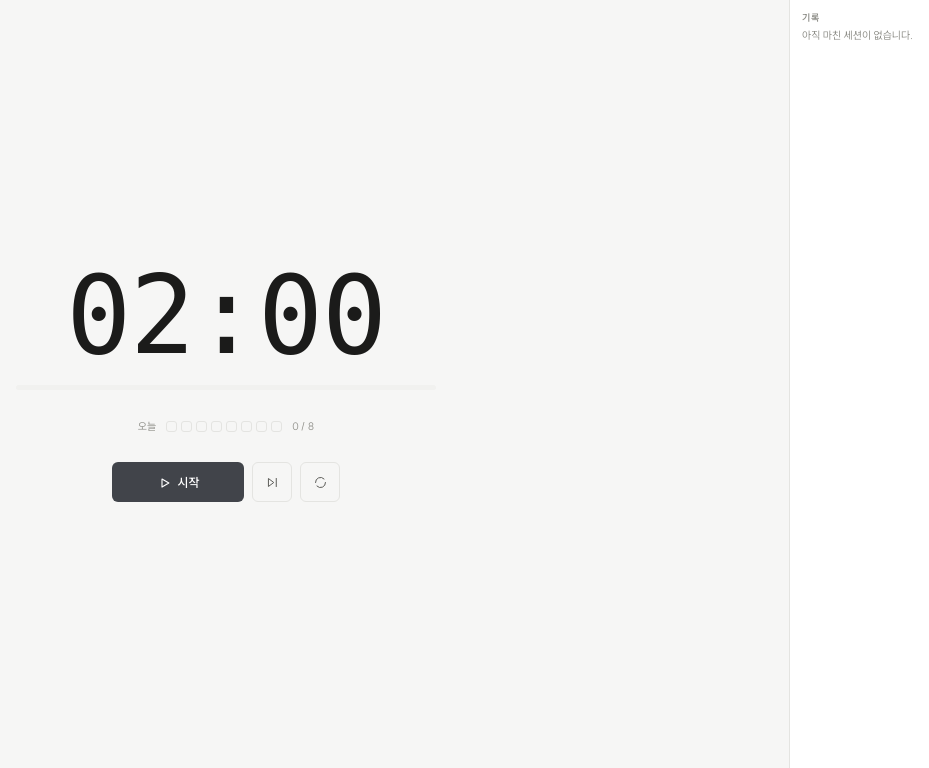
Scenario: TimerPage › does not allow editing the number while counting down
Click the button "시작".
click(178, 482)  # box [112,462,244,502]
Wait 1000 ms
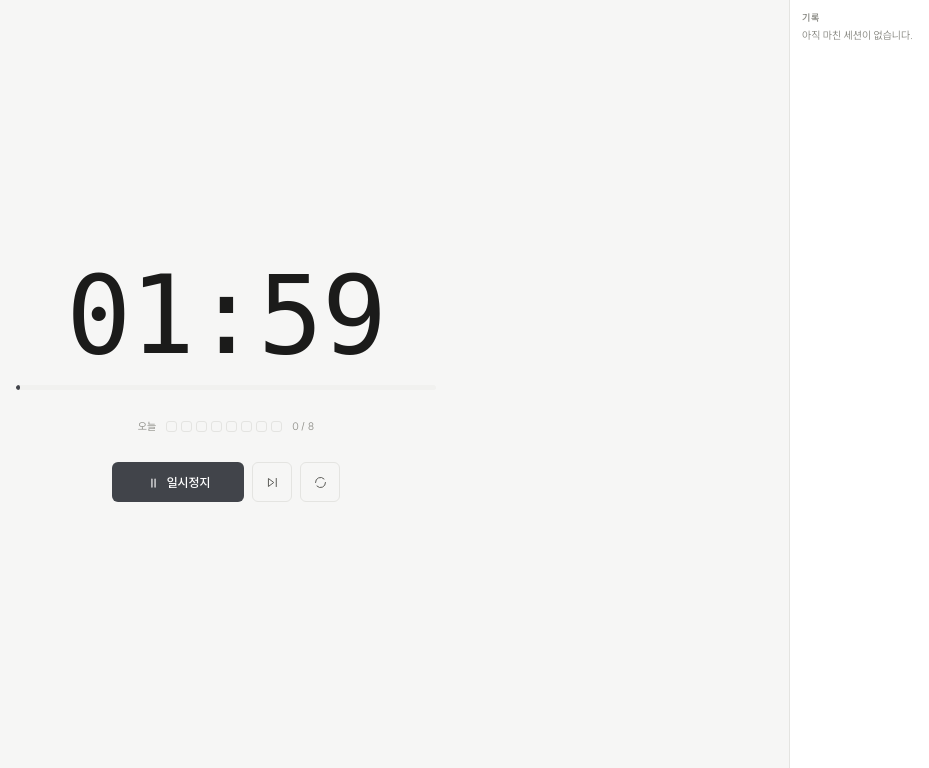
Expected: the button "일시정지" is shown, [112,462,244,502]
